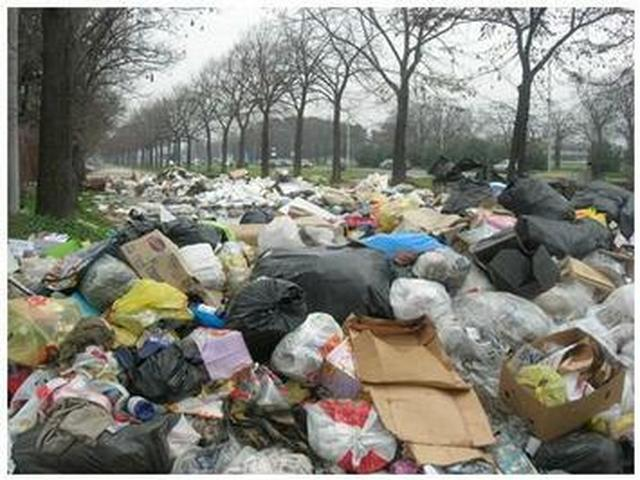garbage: (36, 241, 611, 463), (165, 188, 629, 247)
